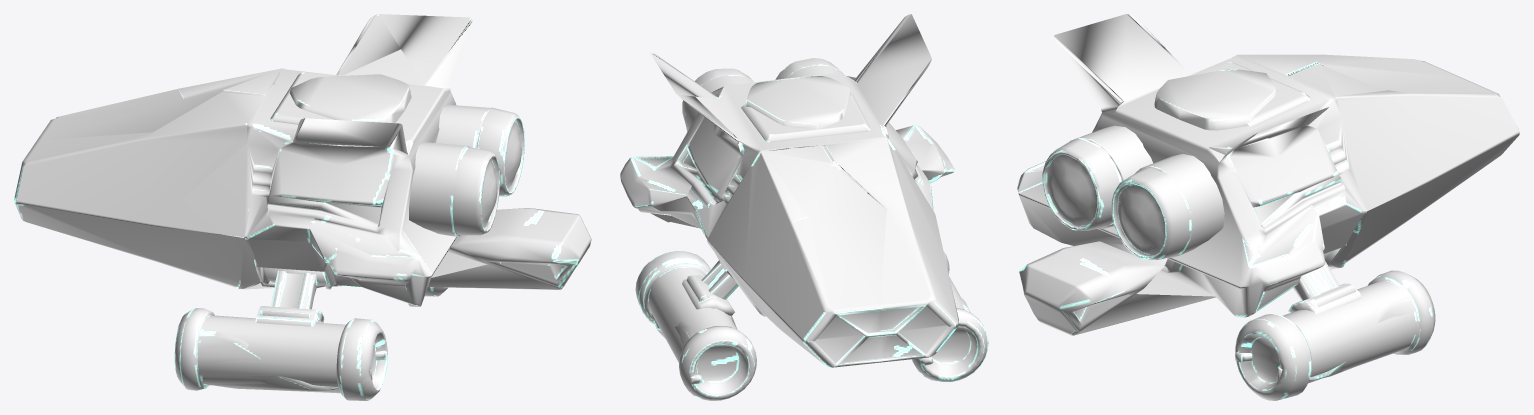
File: colon_v3.glb
3 renders of one model, left to right at view 1: azimuth 30°, elevation 25°; view 2: azimuth 150°, elevation 25°; view 3: azimuth 270°, elevation 25°, orthographic. The views are drawn at different scales.
Visible parts, largest first — view 1: colon_v3; view 2: colon_v3; view 3: colon_v3.
Part boxes in pixels (bbox=[...]): colon_v3: bbox=[14, 14, 591, 400]; colon_v3: bbox=[620, 14, 988, 400]; colon_v3: bbox=[1017, 14, 1519, 400].
Bounding box in the file's own units: 2.59 × 1.74 × 2.6.
1 material, 1 textured.
